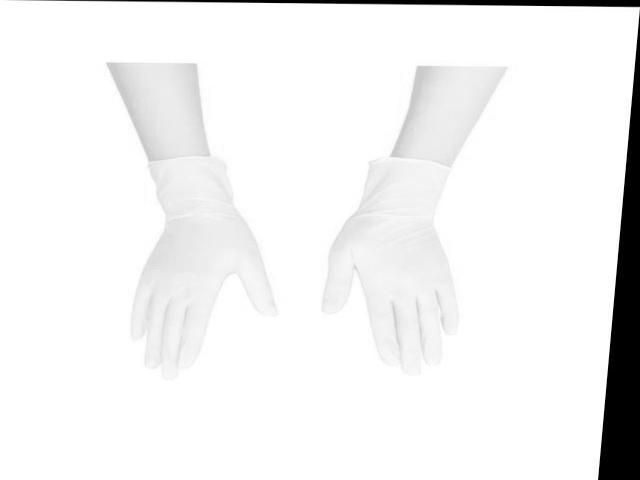gloved: (129, 218, 276, 380), (320, 206, 460, 375)
